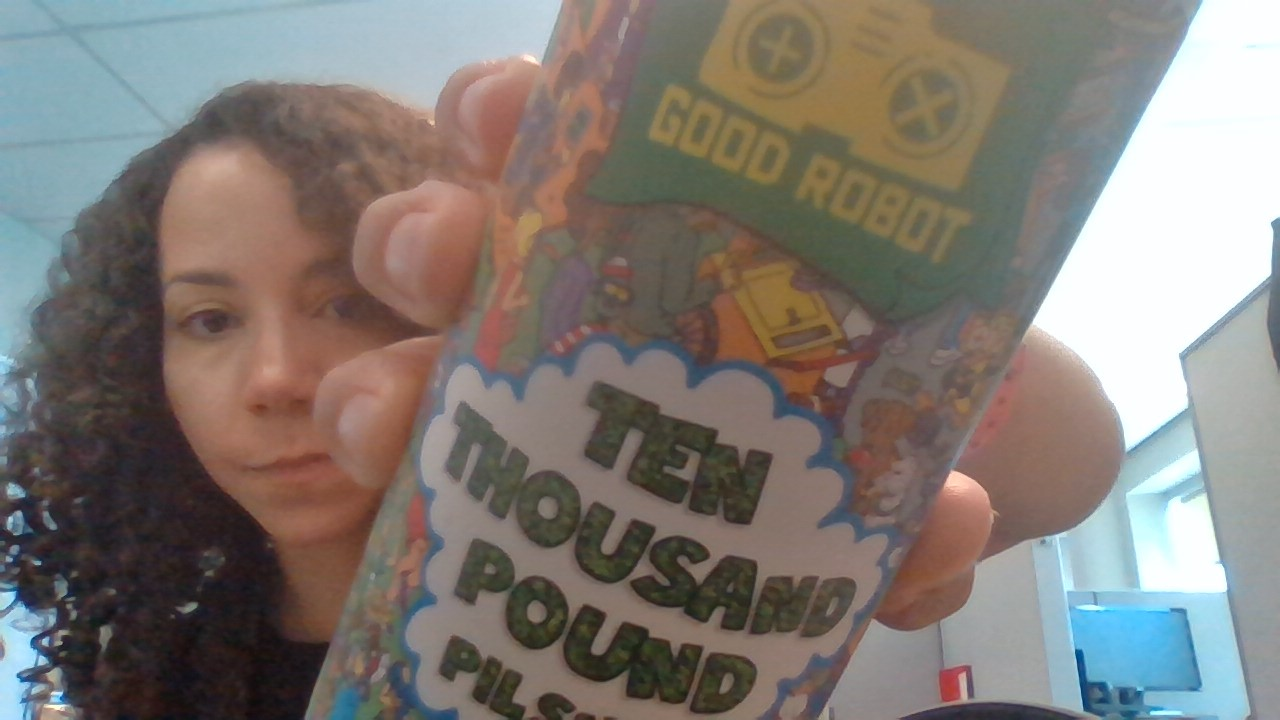Good Robot: (694, 1, 1014, 200)
